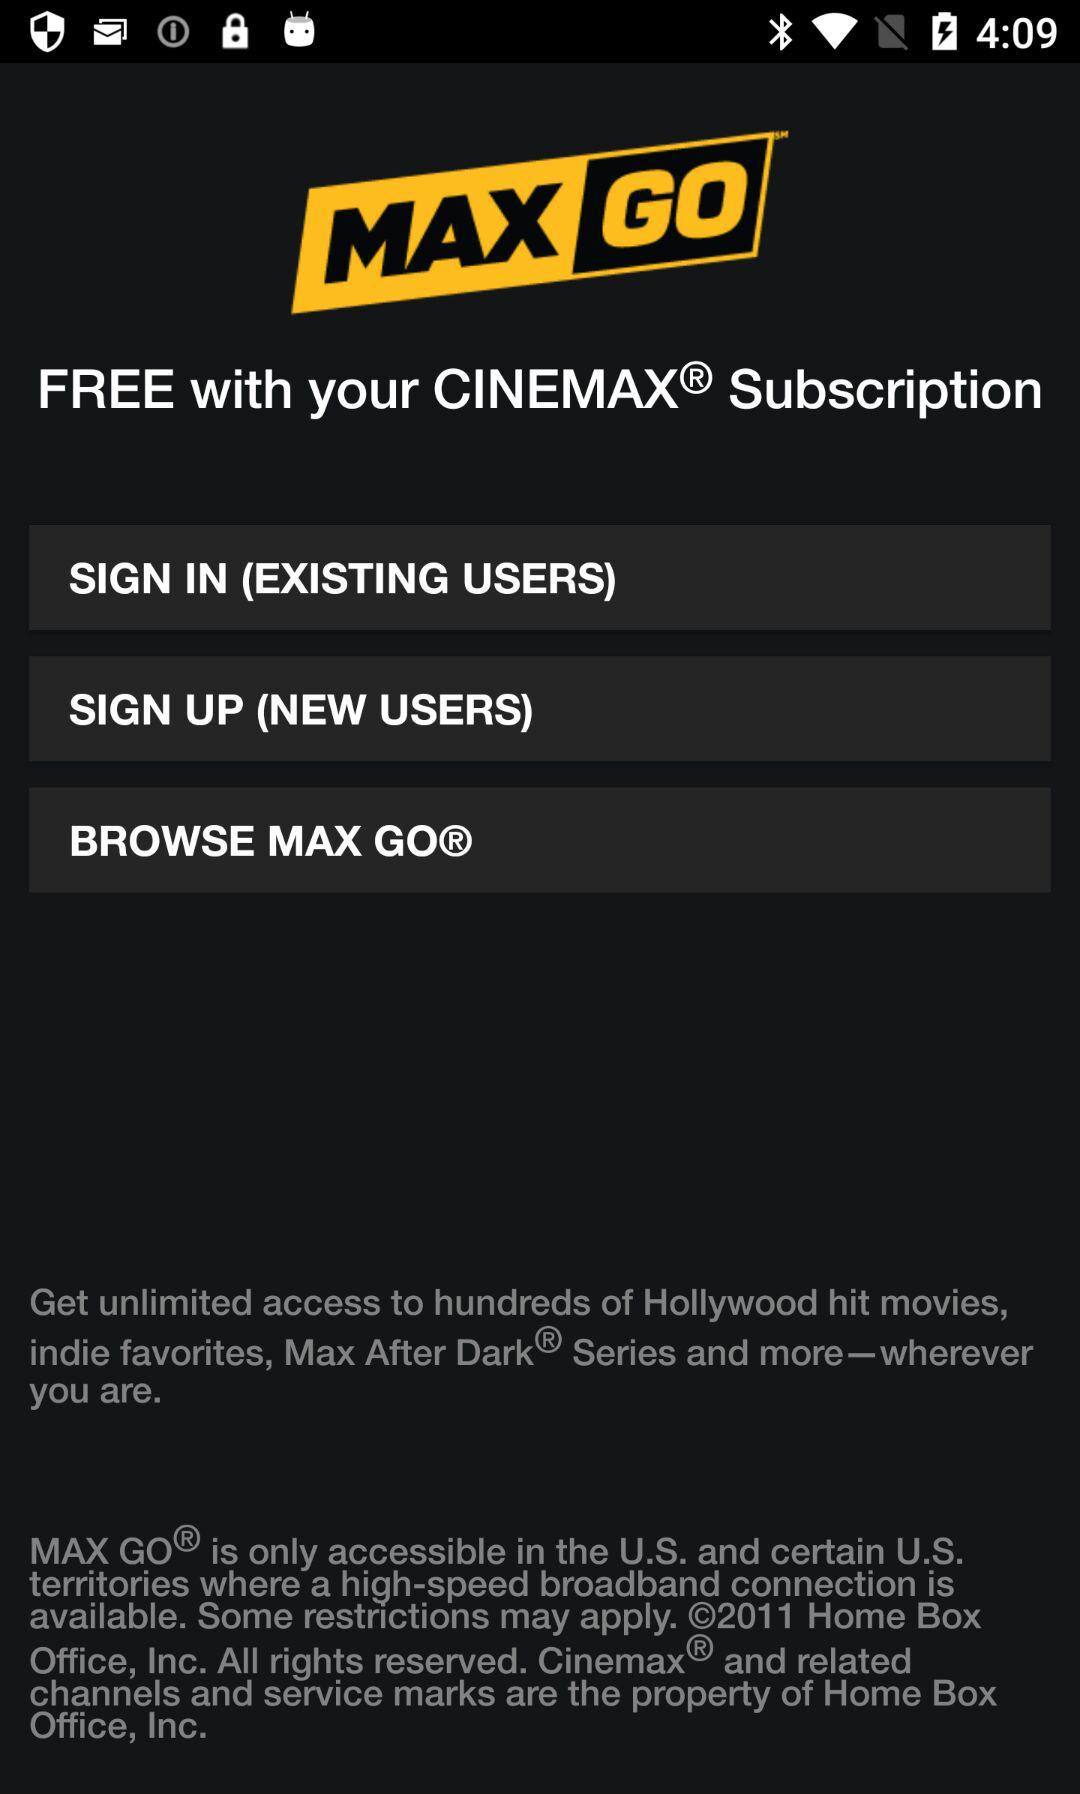Image: (290, 129, 790, 317)
Text: (28, 1522, 998, 1745), (27, 1285, 1035, 1413), (38, 360, 1044, 423)
TextButton: (29, 787, 1052, 894), (29, 656, 1052, 762), (29, 525, 1052, 630)
UpperTaskBar: (1, 1, 1080, 64)
